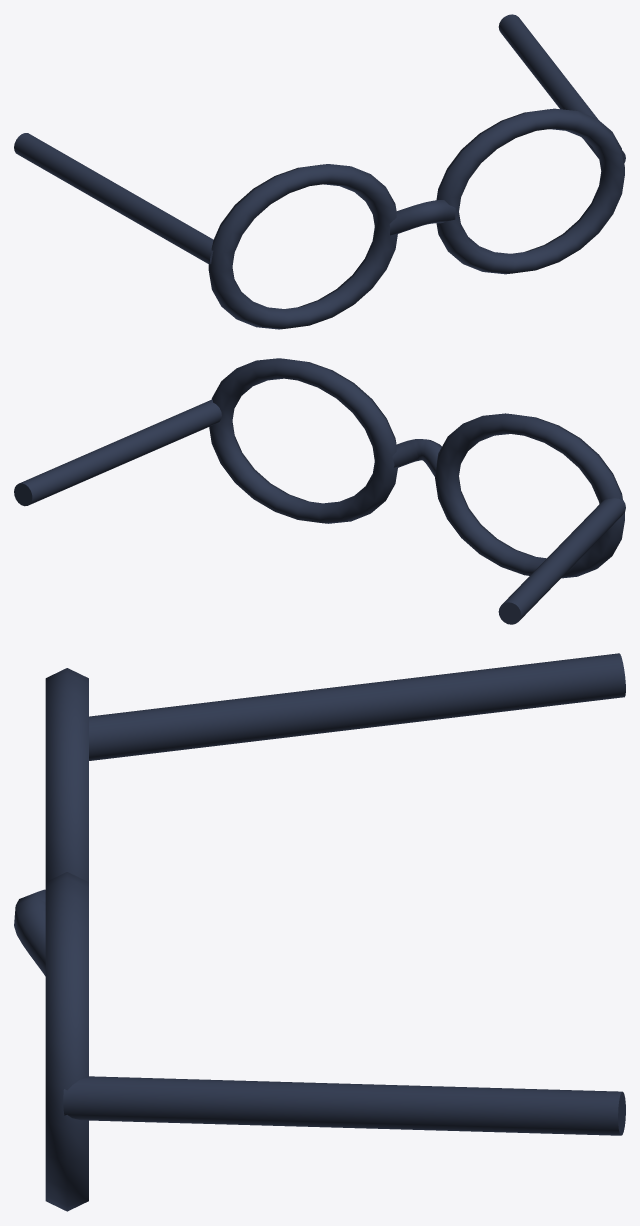
File: objeto-glasses.glb
The picture shows the model from 3 angles, top to bottom: view 1: azimuth 30°, elevation 25°; view 2: azimuth 150°, elevation 25°; view 3: azimuth 270°, elevation 25°; orthographic projection. The views are drawn at different scales.
Parts seen in each view (by area): view 1: equipment:glasses; view 2: equipment:glasses; view 3: equipment:glasses.
Part boxes in pixels (x1,y1,x2,y2): equipment:glasses: [14, 14, 625, 329]; equipment:glasses: [14, 358, 625, 624]; equipment:glasses: [14, 653, 625, 1211].
Bounding box in the file's own units: 0.3898 × 0.1168 × 0.2206.
